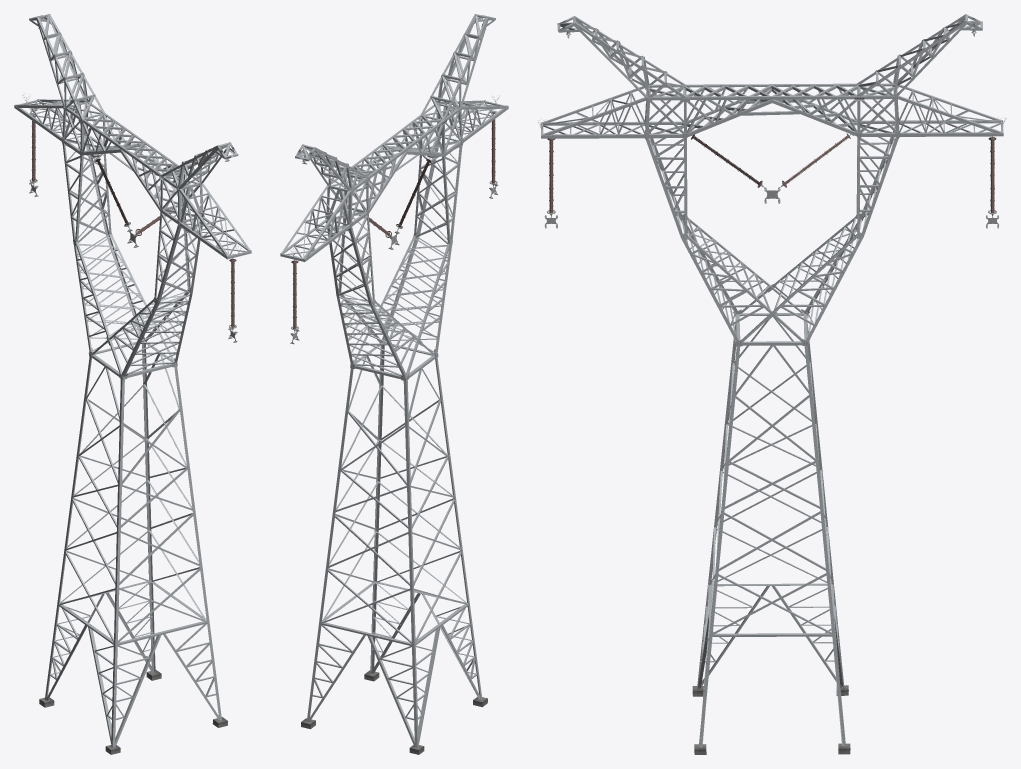
File: bcc.glb
3 renders of one model, left to right at view 1: azimuth 30°, elevation 25°; view 2: azimuth 150°, elevation 25°; view 3: azimuth 270°, elevation 25°, orthographic. The views are drawn at different scales.
Visible parts, largest first — view 1: HXX_154, HXX154_JYZ_01; view 2: HXX_154, HXX154_JYZ_01; view 3: HXX_154, HXX154_JYZ_01.
Boxes of the visible parts, x1,y1,x2,y2 form: HXX_154: (14, 14, 251, 754); HXX154_JYZ_01: (92, 154, 174, 247); HXX_154: (280, 14, 508, 754); HXX154_JYZ_01: (355, 155, 435, 249); HXX_154: (538, 14, 1006, 754); HXX154_JYZ_01: (684, 130, 853, 203).
Size of the model in its own units: 8.53 by 43.46 by 26.27.
15 materials, 15 textured.
